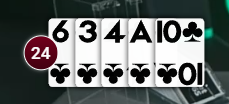10: (153, 16, 183, 48)
3: (73, 16, 101, 46)
4: (100, 18, 129, 47)
6: (47, 16, 75, 46)
a: (127, 17, 156, 46)
